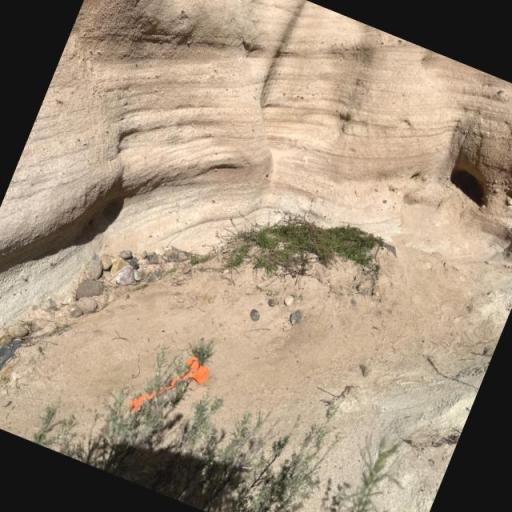mallet: (126, 339, 214, 433)
